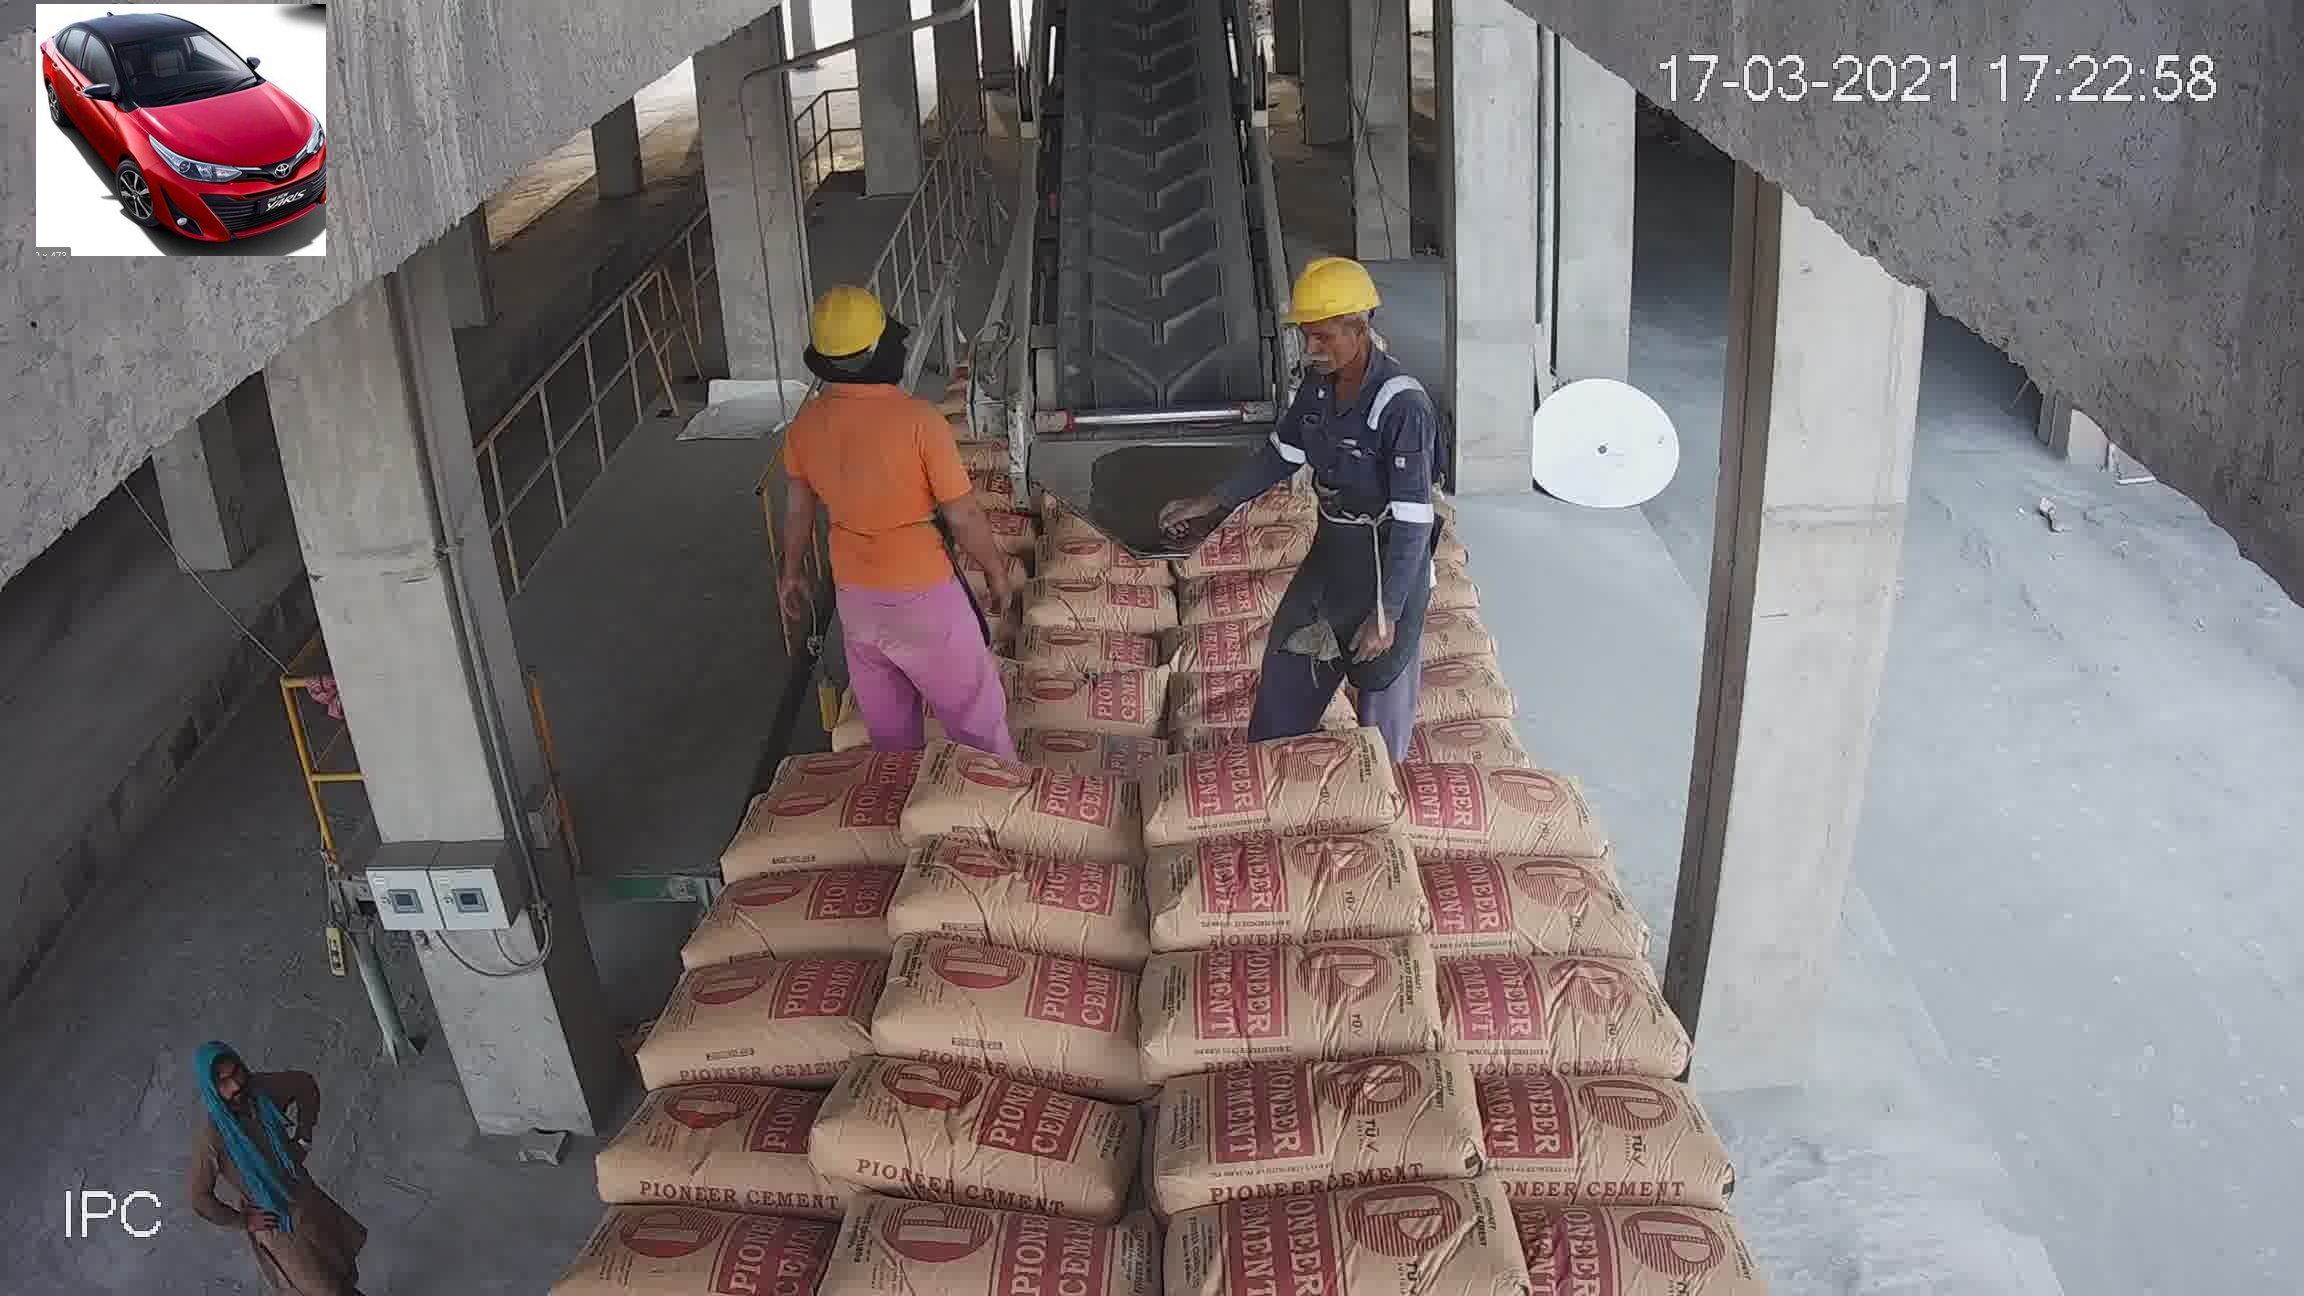bag: (1086, 356, 1220, 476), (1089, 33, 1212, 131)
bag_h: (1146, 1044, 1465, 1201), (1184, 1169, 1525, 1296), (1136, 934, 1451, 1070), (853, 949, 1144, 1068), (1147, 820, 1431, 942), (636, 940, 885, 1073), (1503, 1177, 1756, 1296), (870, 847, 1146, 954), (1510, 1060, 1728, 1192), (1138, 731, 1402, 839), (1465, 945, 1676, 1068), (791, 1086, 1127, 1158), (606, 1071, 809, 1192), (680, 858, 892, 964), (847, 1207, 1144, 1282), (1124, 661, 1381, 742), (1358, 699, 1573, 793), (1405, 771, 1601, 872), (1185, 574, 1372, 677), (1431, 848, 1625, 943), (729, 771, 897, 878), (767, 623, 957, 718), (565, 1222, 821, 1290), (913, 767, 1149, 839), (946, 677, 1149, 756), (964, 597, 1174, 673), (760, 693, 916, 786), (1388, 601, 1554, 688), (1155, 476, 1275, 535), (870, 538, 980, 597), (1157, 516, 1269, 571), (866, 571, 970, 628)
belt: (1055, 17, 1277, 396)
